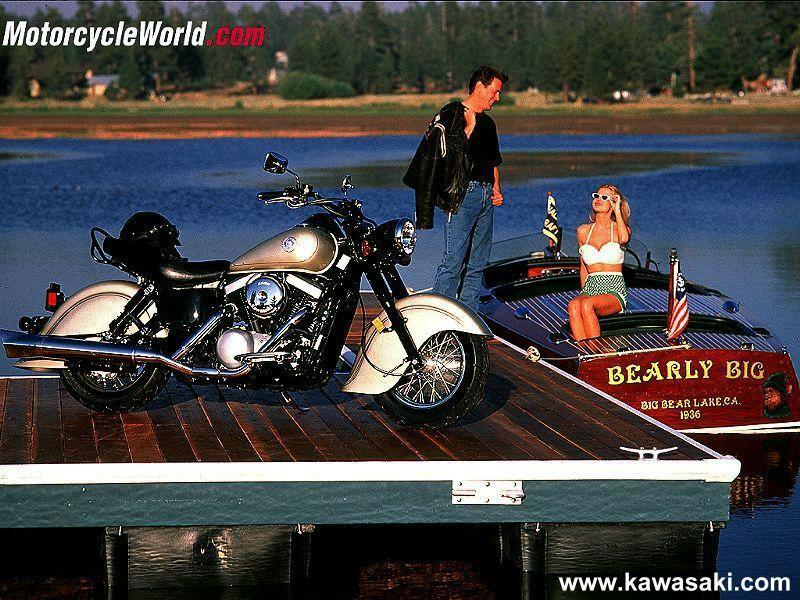motorcycle: (7, 159, 488, 436)
